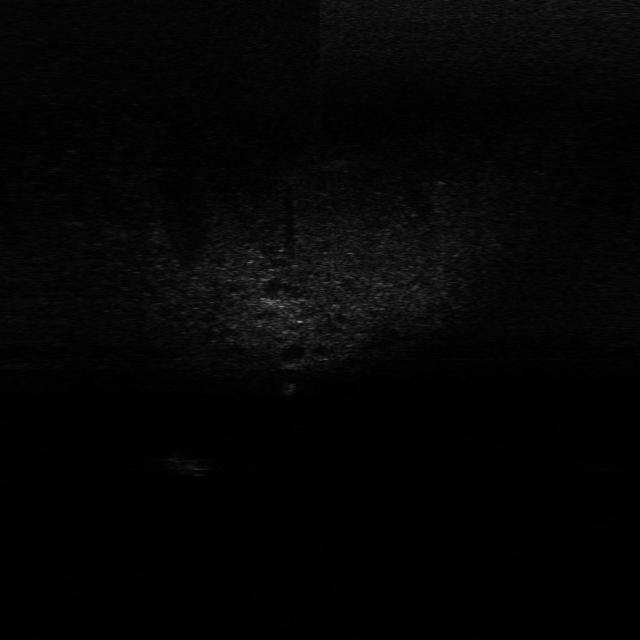circle cage: (144, 446, 220, 476)
cylinder: (274, 376, 298, 398)
